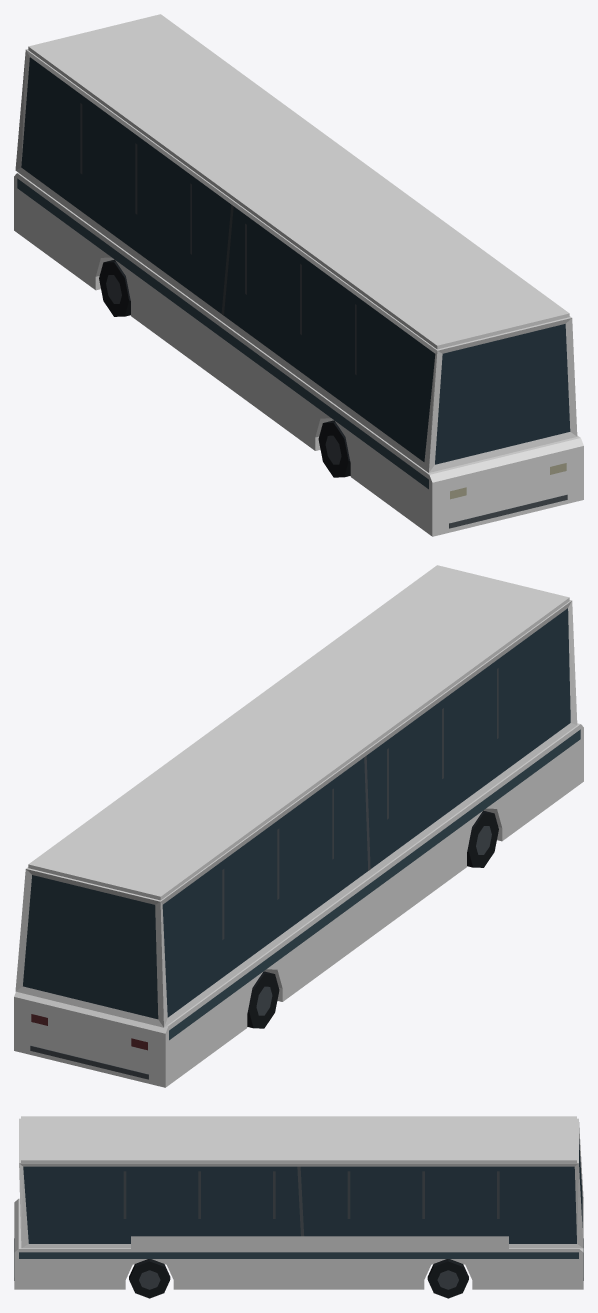
File: city-bus.glb
3 renders of one model, top to bottom at view 1: azimuth 30°, elevation 25°; view 2: azimuth 150°, elevation 25°; view 3: azimuth 270°, elevation 25°, orthographic. The views are drawn at different scales.
Parts seen in each view (by area): view 1: vehicle_body; view 2: vehicle_body; view 3: vehicle_body, side_panel.
Part boxes in pixels (bbox=[...]): vehicle_body: bbox=[14, 14, 583, 536]; vehicle_body: bbox=[14, 565, 583, 1087]; vehicle_body: bbox=[14, 1116, 583, 1298]; side_panel: bbox=[131, 1236, 508, 1251].
Size of the model in its own units: 2.55 by 3.2 by 12.22.
